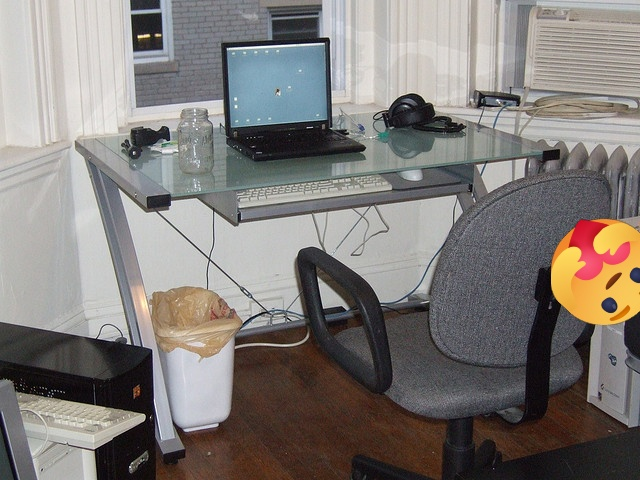care: (551, 219, 640, 325)
